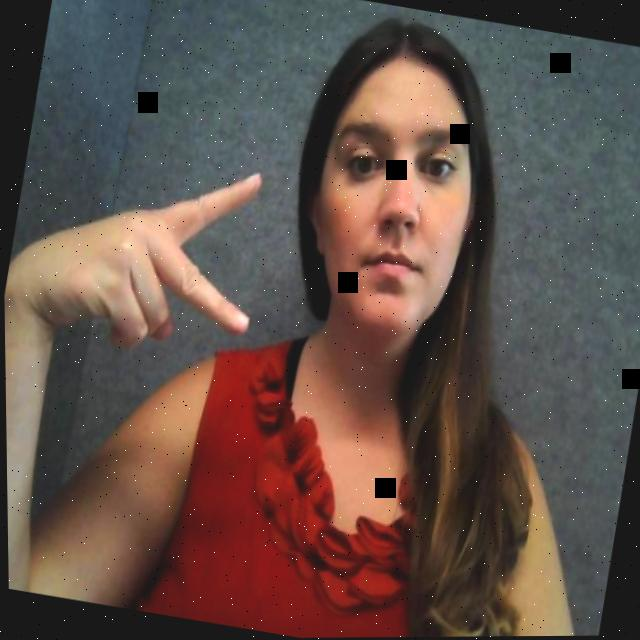Scissors: (12, 135, 303, 421)
